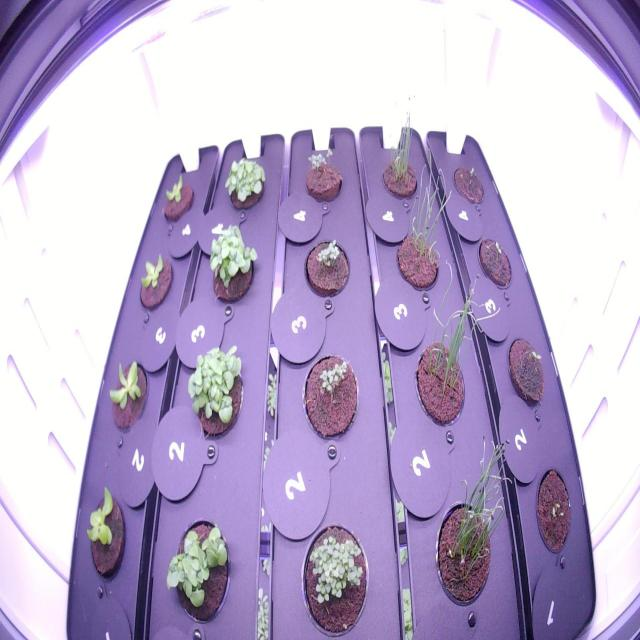germination: (301, 514, 374, 640), (298, 348, 362, 448), (530, 461, 575, 561), (503, 331, 548, 413), (302, 230, 352, 302), (295, 142, 349, 208), (473, 226, 514, 293), (450, 155, 488, 209)
young: (80, 480, 131, 588), (103, 352, 152, 441), (134, 248, 176, 318), (157, 168, 197, 228)
